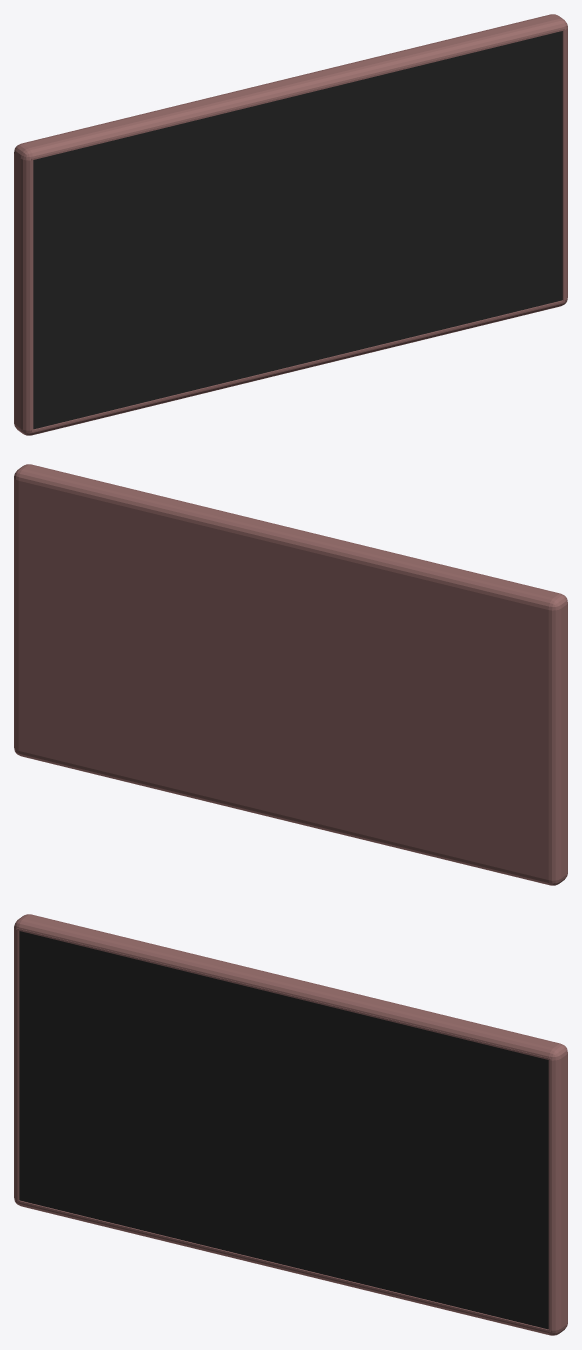
File: monitor.fbx
The picture shows the model from 3 angles, top to bottom: view 1: azimuth 30°, elevation 25°; view 2: azimuth 150°, elevation 25°; view 3: azimuth 330°, elevation 25°; orthographic projection.
Visible parts, largest first — view 1: Plane, Cube; view 2: Cube; view 3: Plane, Cube.
Part boxes in pixels (box(x1,y1,x2,y2)): Plane: box(33, 31, 562, 429); Cube: box(14, 14, 567, 435); Cube: box(14, 464, 567, 885); Plane: box(19, 931, 548, 1329); Cube: box(14, 914, 567, 1335).
Size of the model in its own units: 804 by 403 by 37.77.
